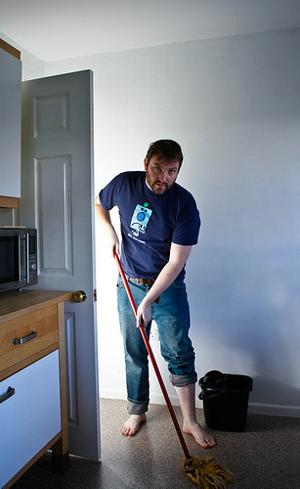person: (95, 137, 217, 451)
